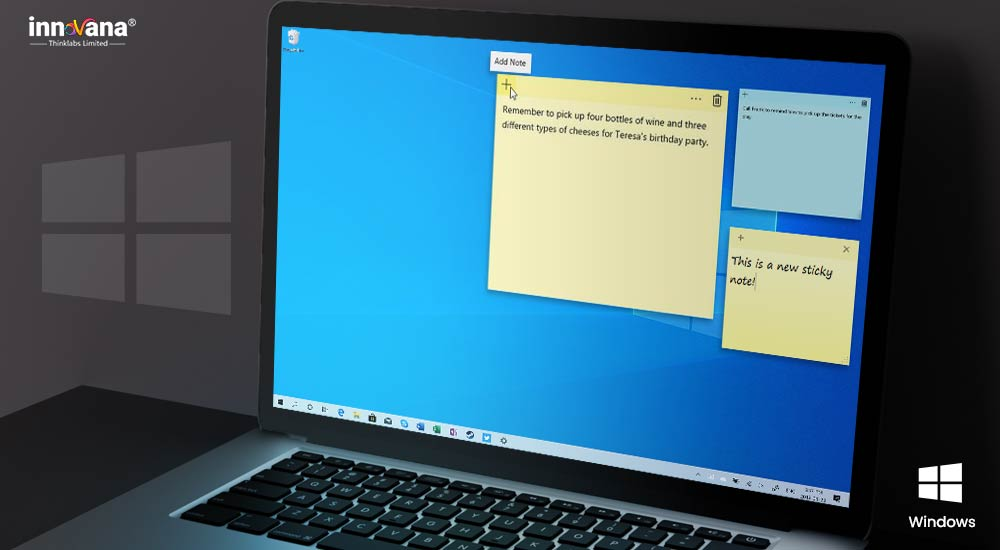Note: (490, 74, 727, 319), (719, 225, 855, 366), (731, 88, 868, 222)
